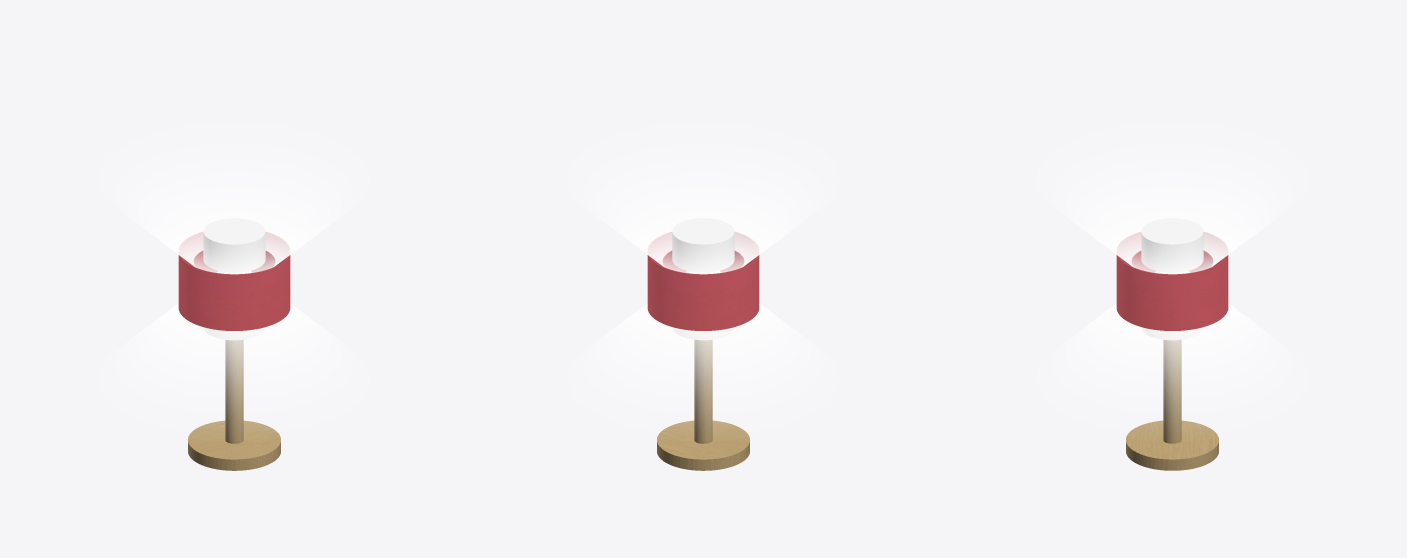
The model's file is RED_ON.glb.
3 renders of one model, left to right at view 1: azimuth 30°, elevation 25°; view 2: azimuth 150°, elevation 25°; view 3: azimuth 270°, elevation 25°, orthographic.
Visible parts, largest first — view 1: LIGHT_UP, LIGHT_DOWN, SHELL, BASE, INNER_TOP; view 2: LIGHT_UP, LIGHT_DOWN, SHELL, BASE, INNER_TOP; view 3: LIGHT_UP, LIGHT_DOWN, SHELL, BASE, INNER_TOP.
Boxes of the visible parts, box(x1,y1,x2,y2) form: LIGHT_UP: box(115, 143, 353, 274); LIGHT_DOWN: box(115, 303, 353, 414); SHELL: box(178, 232, 290, 330); BASE: box(188, 340, 280, 470); INNER_TOP: box(203, 218, 265, 272); LIGHT_UP: box(584, 143, 822, 274); LIGHT_DOWN: box(584, 303, 822, 414); SHELL: box(647, 232, 759, 330); BASE: box(657, 340, 749, 470); INNER_TOP: box(672, 218, 734, 272); LIGHT_UP: box(1053, 143, 1291, 274); LIGHT_DOWN: box(1053, 303, 1291, 414); SHELL: box(1116, 232, 1228, 330); BASE: box(1126, 340, 1218, 470); INNER_TOP: box(1141, 218, 1203, 272).
Size of the model in its own units: 0.7082 by 0.6108 by 0.7082.
Materials: 4 (4 with a texture image).
